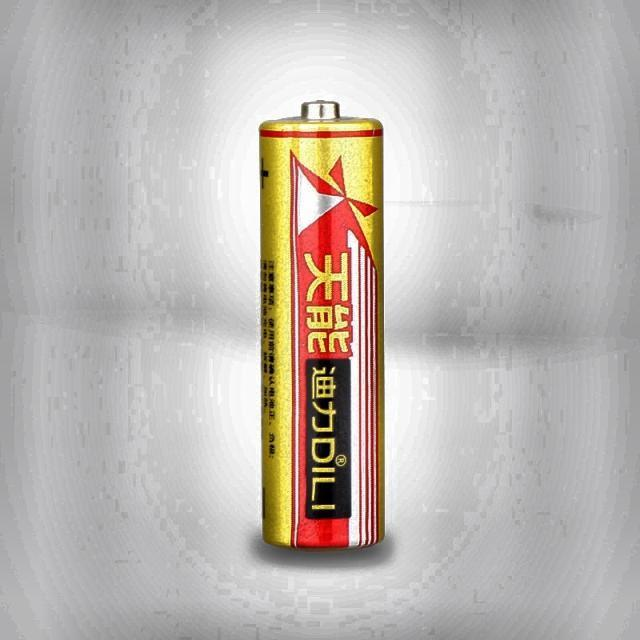battery: (260, 102, 384, 549)
